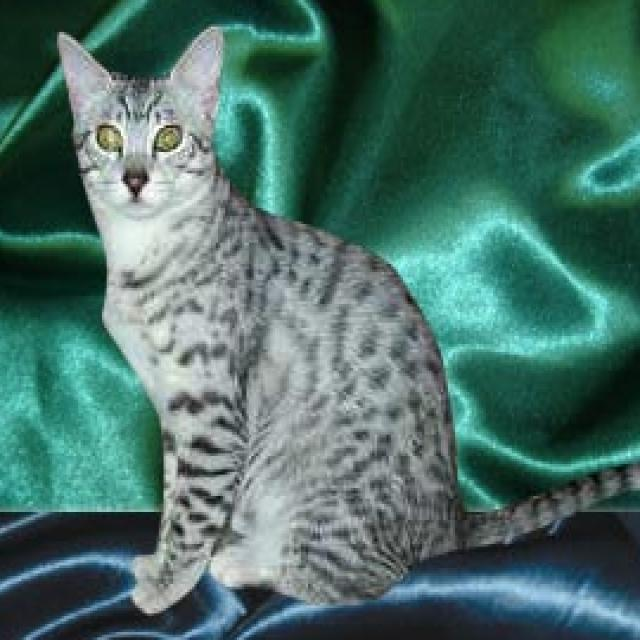Egyptian Mau: (54, 21, 640, 618)
